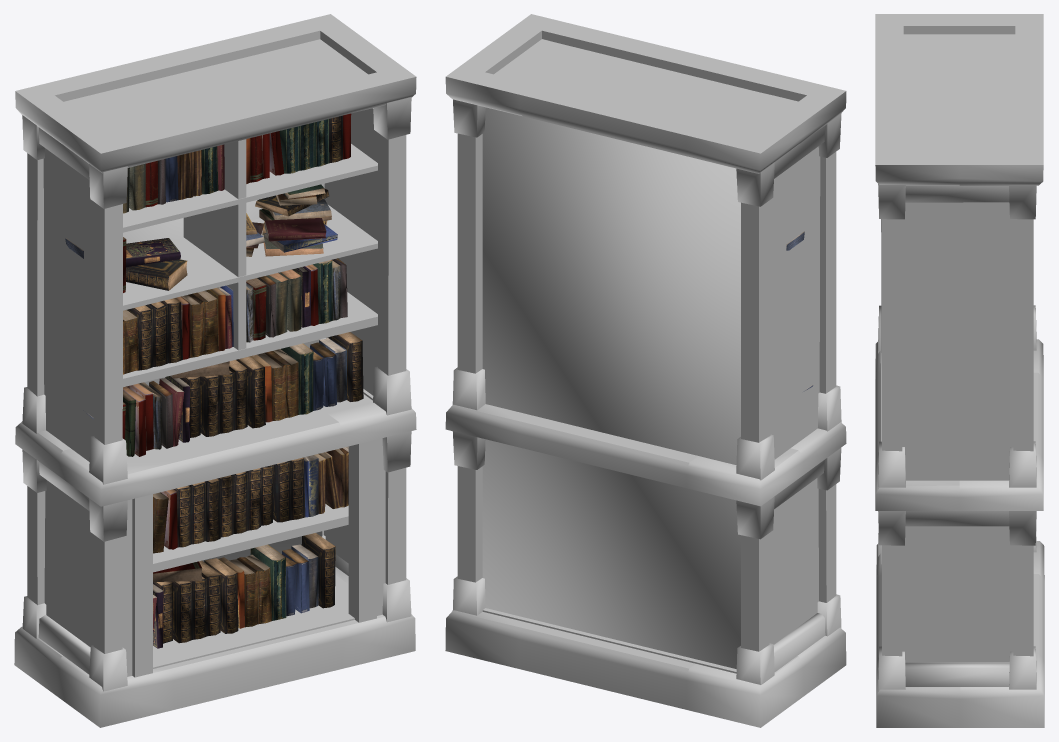
File: BookCaseMk2.fbx
3 views of the same model, side by side, from view 1: azimuth 30°, elevation 25°; view 2: azimuth 150°, elevation 25°; view 3: azimuth 270°, elevation 25° (orthographic). The views are drawn at different scales.
Parts seen in each view (by area): view 1: Book_013_9; view 2: Book_013_9; view 3: Book_013_9.
Boxes of the visible parts, x1=… form: Book_013_9: x1=14, y1=14, x2=416, y2=727; Book_013_9: x1=445, y1=14, x2=846, y2=727; Book_013_9: x1=875, y1=14, x2=1044, y2=727.
Size of the model in its own units: 145 by 251 by 68.35.
